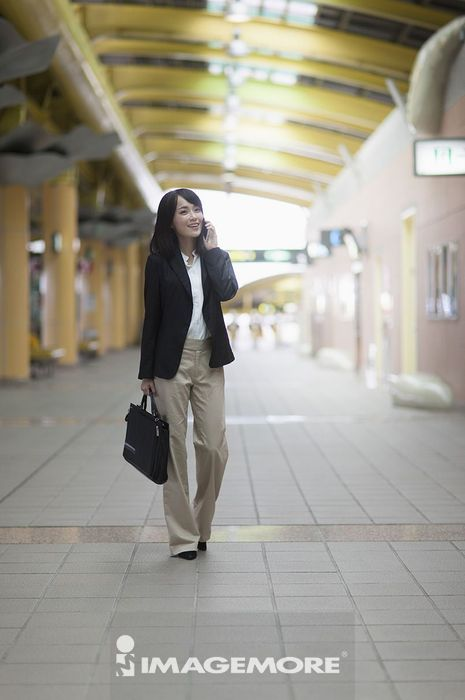talk: (176, 204, 217, 248)
